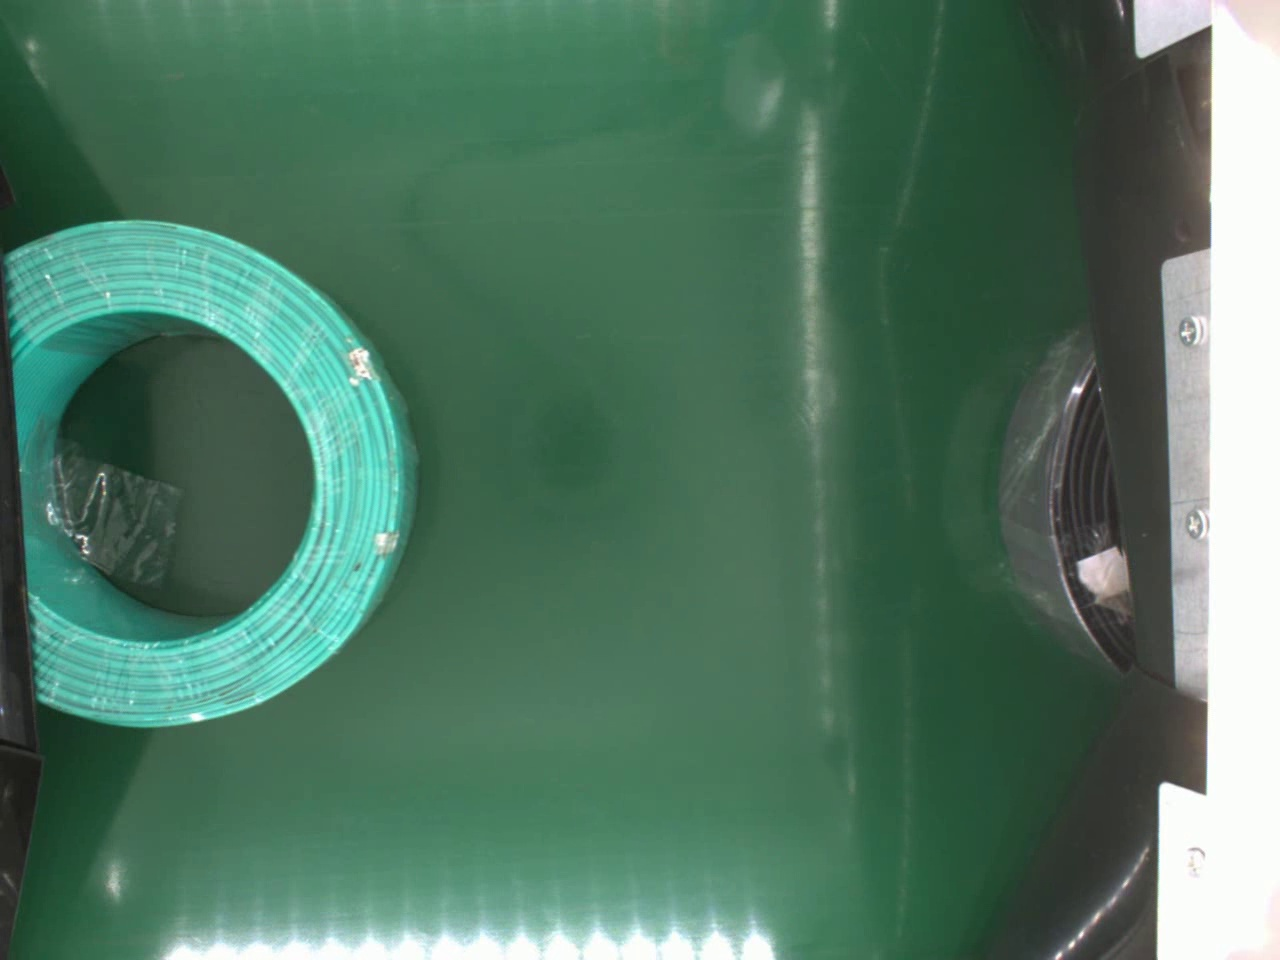black: (995, 319, 1133, 676)
green: (10, 218, 426, 737)
